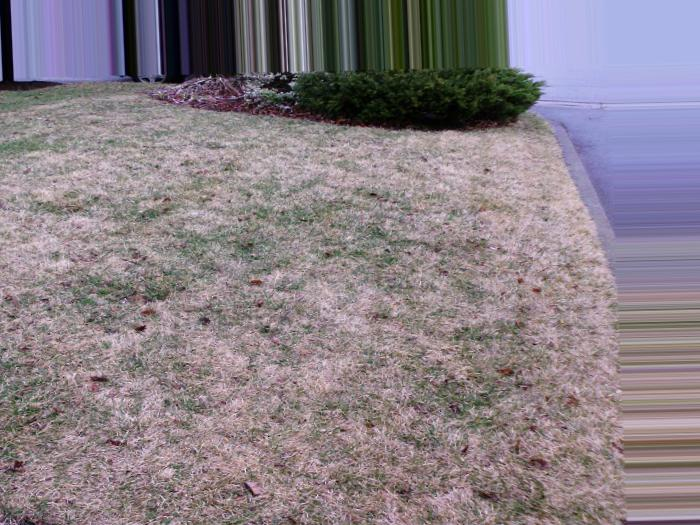patch: (40, 130, 131, 237), (509, 130, 556, 294), (32, 458, 153, 505), (313, 265, 365, 325)
